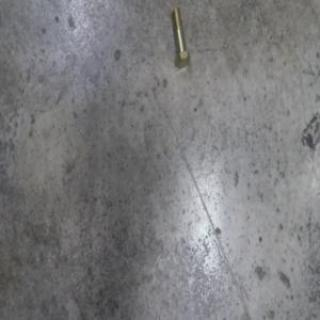Bolttrack_idkeyframe: (170, 9, 188, 70)
